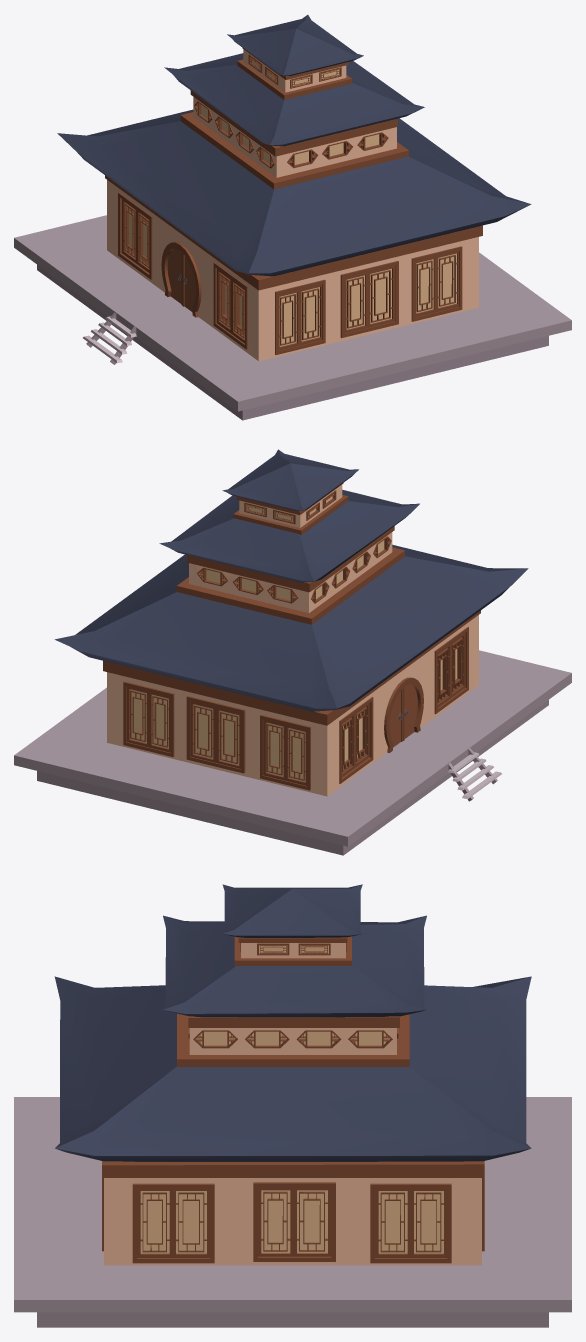
File: houme08_1.fbx
3 views of the same model, one above another, from view 1: azimuth 30°, elevation 25°; view 2: azimuth 150°, elevation 25°; view 3: azimuth 270°, elevation 25° (orthographic). The views are drawn at different scales.
Parts seen in each view (by area): view 1: houme08_1; view 2: houme08_1; view 3: houme08_1.
Boxes of the visible parts, left/top/right/bottom form: houme08_1: left=14, top=15, right=571, bottom=420; houme08_1: left=14, top=449, right=571, bottom=855; houme08_1: left=14, top=884, right=571, bottom=1327.
Size of the model in its own units: 2212 by 1649 by 2381.
